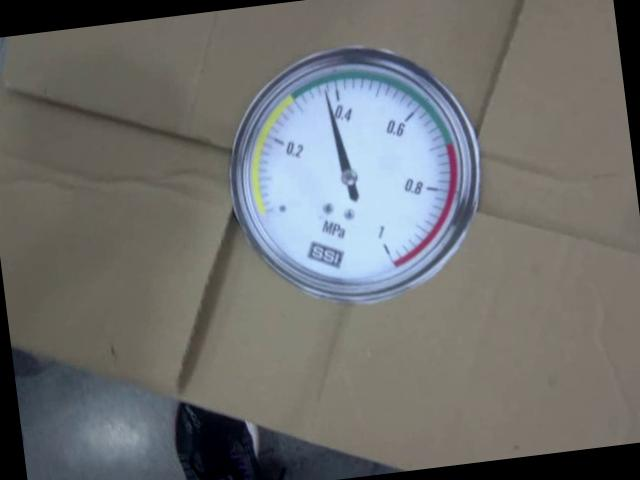Dashboard: (212, 30, 498, 317)
ssi: (300, 237, 347, 274)
